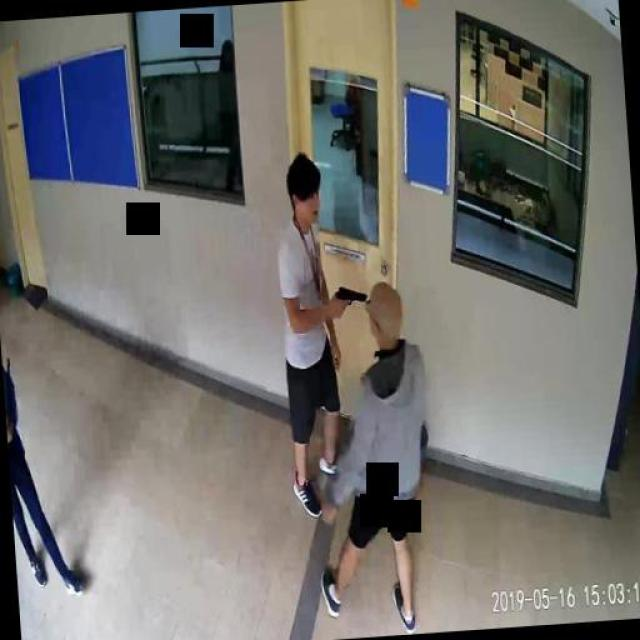gun: (332, 282, 366, 320)
